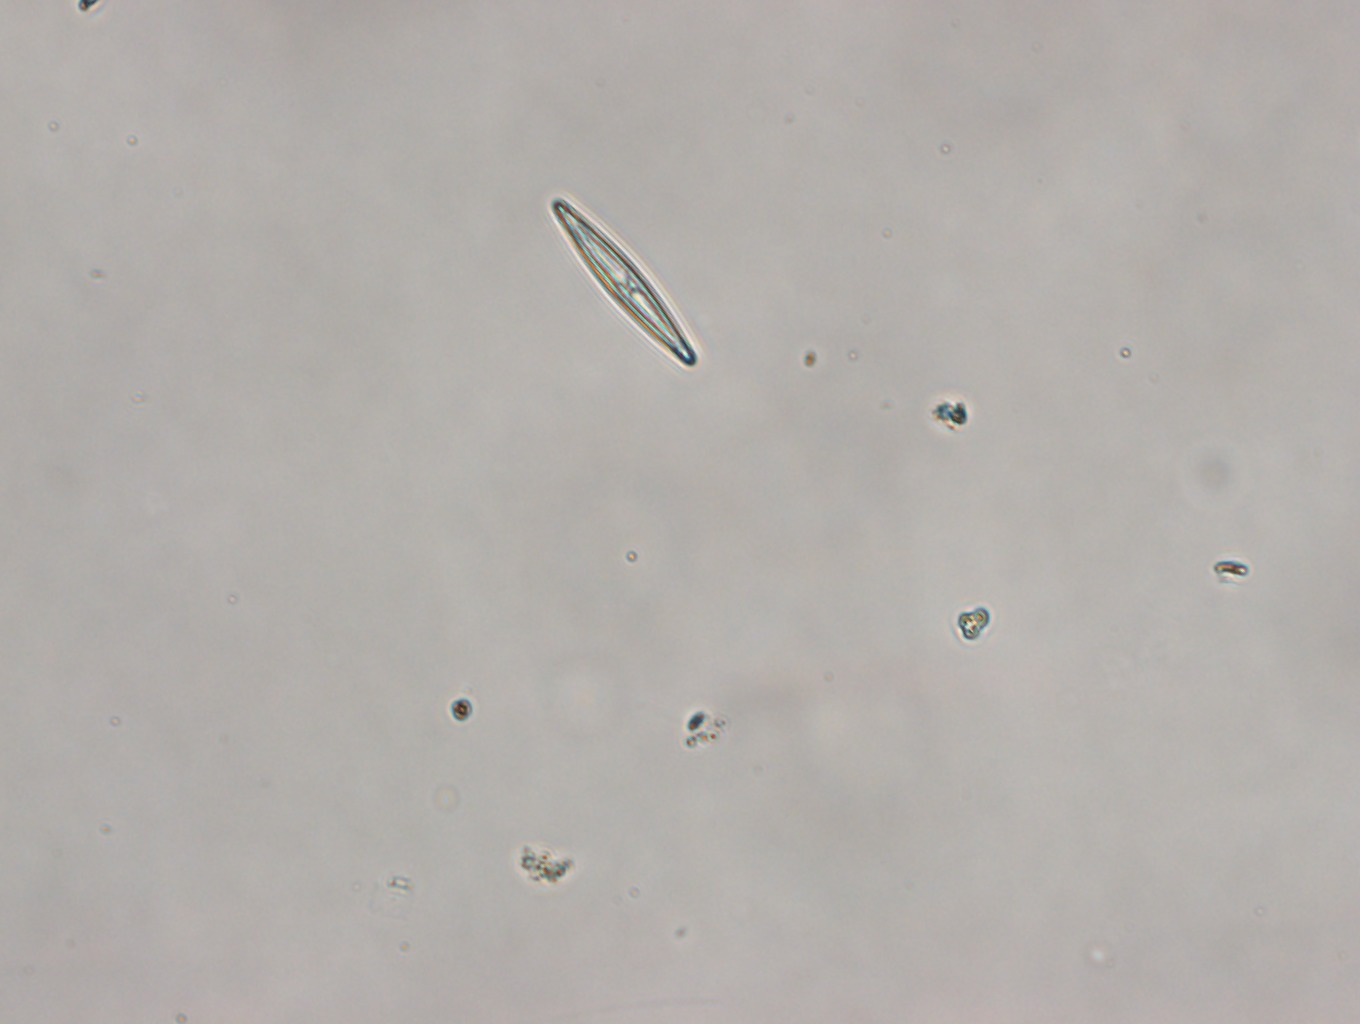navicula: (545, 193, 699, 373)
